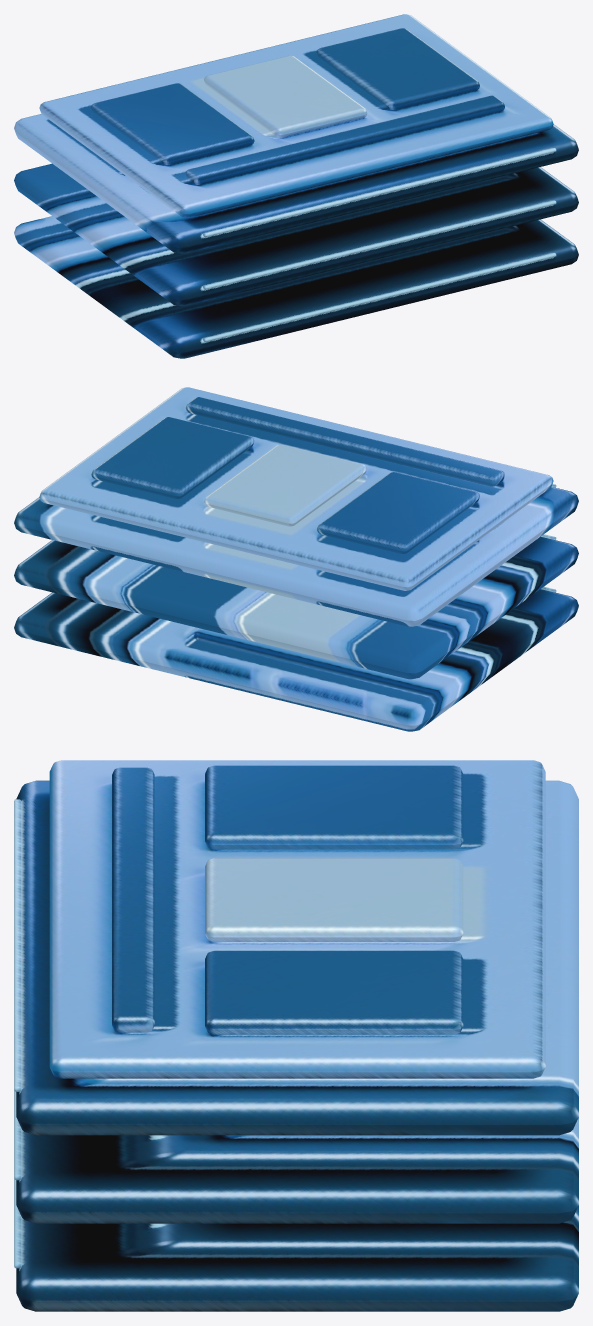
Rendered from product-hero.glb.
3 renders of one model, top to bottom at view 1: azimuth 30°, elevation 25°; view 2: azimuth 150°, elevation 25°; view 3: azimuth 270°, elevation 25°, orthographic. The views are drawn at different scales.
Visible parts, largest first — view 1: Interface panel, Product layer.001, Product layer, Product layer.002, Interface tile.001, Interface tile, Interface tile.002, Interface rail, Layer edge.001, Layer edge.002, Layer edge; view 2: Interface panel, Product layer.001, Product layer, Product layer.002, Interface tile.001, Interface tile.002, Interface tile, Interface rail; view 3: Interface panel, Product layer.002, Product layer, Product layer.001, Interface tile, Interface tile.002, Interface tile.001, Interface rail, Layer edge.002.
Boxes of the visible parts, x1,y1,x2,y2 form: Interface panel: (39,14,553,217); Product layer.001: (14,163,578,306); Product layer: (14,216,578,358); Product layer.002: (14,114,578,253); Interface tile.001: (204,55,367,137); Interface tile: (91,83,254,165); Interface tile.002: (316,28,479,109); Interface rail: (185,95,504,184); Layer edge.001: (203,200,556,289); Layer edge.002: (203,148,556,236); Layer edge: (203,253,556,341); Interface panel: (39,387,553,590); Product layer.001: (14,536,578,679); Product layer: (14,589,578,731); Product layer.002: (14,487,578,626); Interface tile.001: (204,444,367,526); Interface tile.002: (91,417,254,498); Interface tile: (317,472,479,553); Interface rail: (185,397,504,486); Interface panel: (49,760,545,1078); Product layer.002: (16,780,578,1135); Product layer: (16,1205,578,1311); Product layer.001: (16,1117,578,1223); Interface tile: (205,765,463,849); Interface tile.002: (205,950,463,1034); Interface tile.001: (205,858,463,941); Interface rail: (112,767,154,1032); Layer edge.002: (14,799,21,1091).
Bounding box in the file's own units: 2.6 × 0.945 × 1.86.
Materials: 1 (1 with a texture image).
